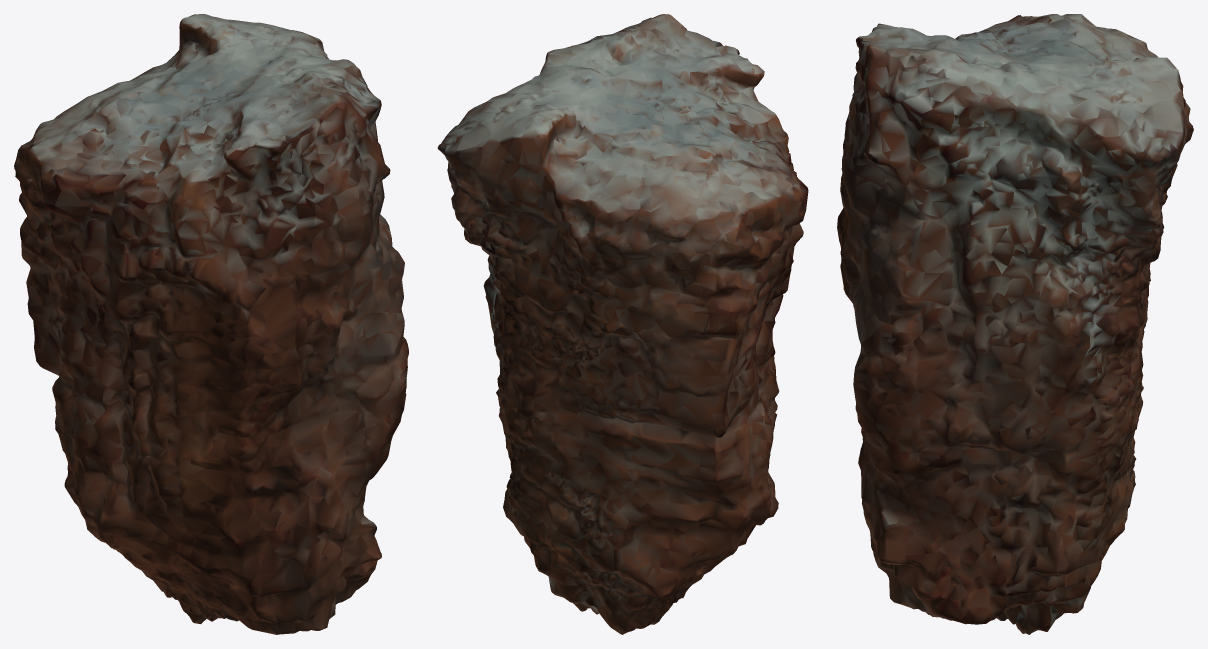
The model's file is CliffRockA8B_LOD0.fbx.
The picture shows the model from 3 angles, left to right: view 1: azimuth 30°, elevation 25°; view 2: azimuth 150°, elevation 25°; view 3: azimuth 270°, elevation 25°; orthographic projection. The views are drawn at different scales.
Parts seen in each view (by area): view 1: CliffRockA8B_LOD0; view 2: CliffRockA8B_LOD0; view 3: CliffRockA8B_LOD0.
Part boxes in pixels (x1,y1,x2,y2): CliffRockA8B_LOD0: [14, 14, 408, 634]; CliffRockA8B_LOD0: [437, 14, 808, 634]; CliffRockA8B_LOD0: [837, 14, 1193, 634].
Bounding box in the file's own units: 25.97 × 44.48 × 24.12.
